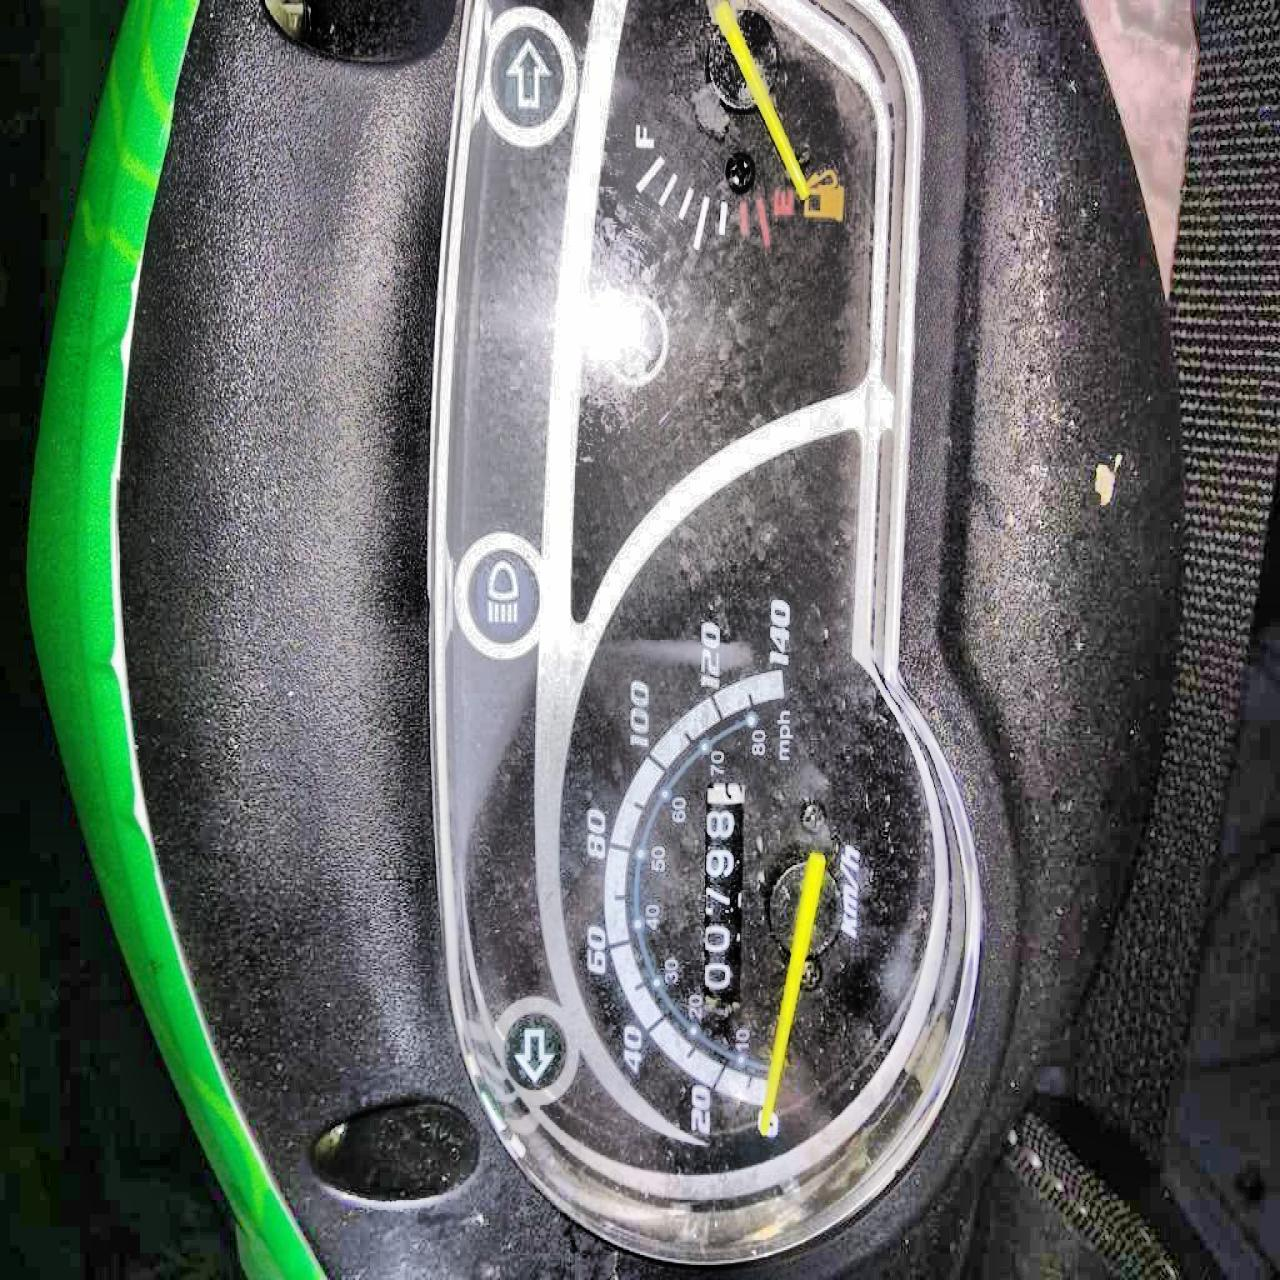0: (702, 960, 730, 988), (704, 924, 730, 952)
2: (722, 778, 742, 802)
7: (701, 885, 731, 913)
8: (704, 809, 734, 838)
9: (704, 846, 734, 876)
odometer: (696, 774, 751, 1007)
